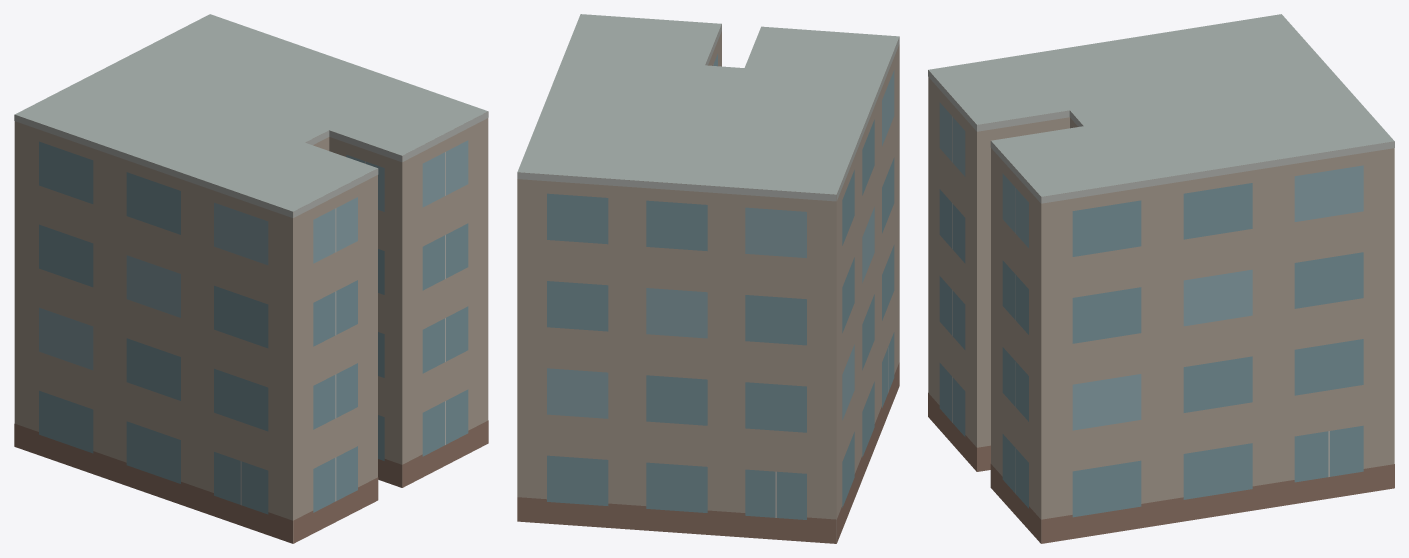
The model's file is survey-upis-32846608.glb.
3 renders of one model, left to right at view 1: azimuth 30°, elevation 25°; view 2: azimuth 150°, elevation 25°; view 3: azimuth 270°, elevation 25°, orthographic. The views are drawn at different scales.
Visible parts, largest first — view 1: survey-upis-32846608.tmp; view 2: survey-upis-32846608.tmp; view 3: survey-upis-32846608.tmp.
Part boxes in pixels (left/top/right/bottom): survey-upis-32846608.tmp: left=14, top=14, right=488, bottom=543; survey-upis-32846608.tmp: left=517, top=14, right=899, bottom=543; survey-upis-32846608.tmp: left=928, top=14, right=1394, bottom=543.
Bounding box in the file's own units: 14.02 × 12.4 × 15.12.
